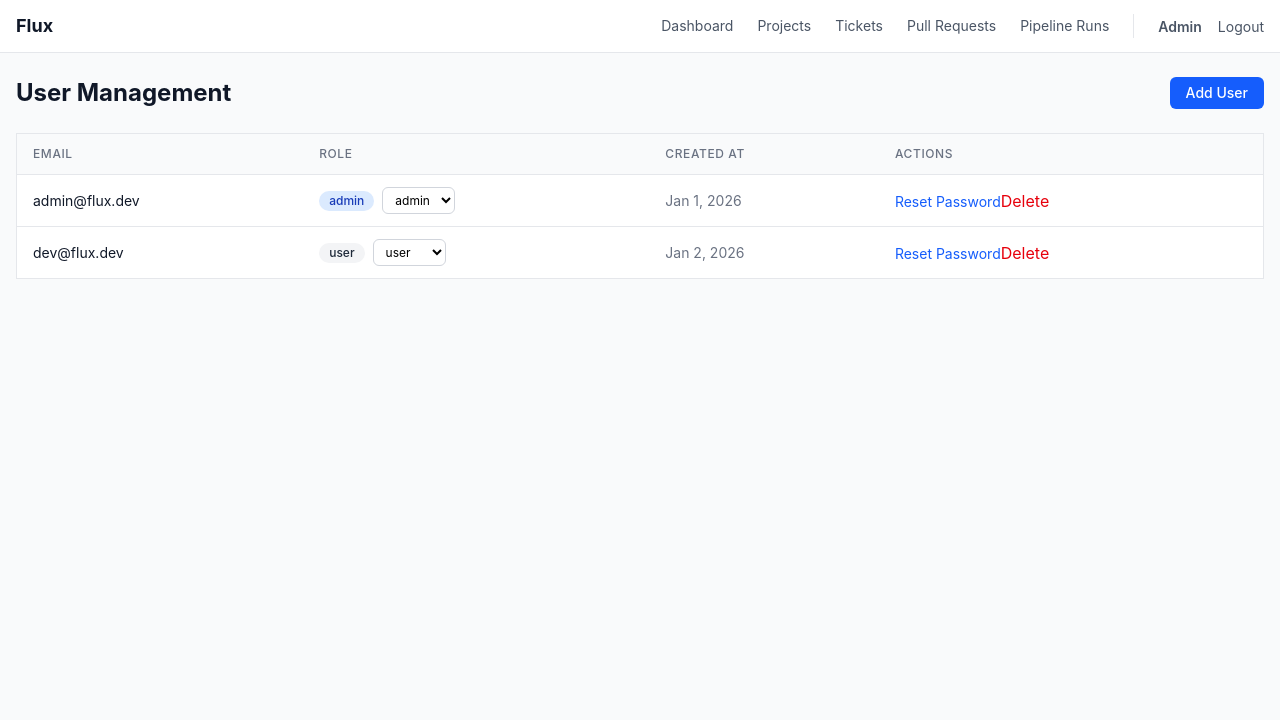
AdminUsersPage › shows create user form when "Add User" button is clicked
Click the button "Add User". click: (1217, 93)
box: [1170,77,1264,109]
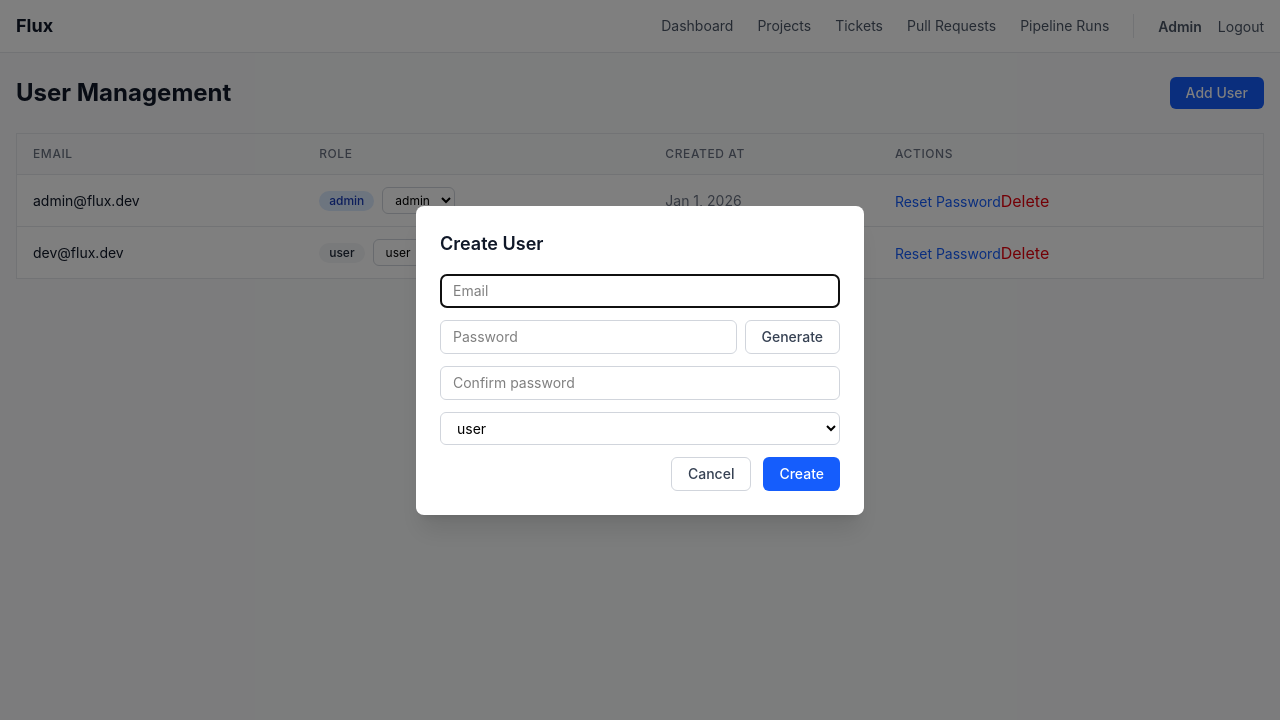
Result: the field labelled "Email" is shown at [440,274,840,308]
Result: the password field labelled "Password" is shown at [440,320,736,354]
Result: the password field labelled "Confirm password" is shown at [440,366,840,400]
